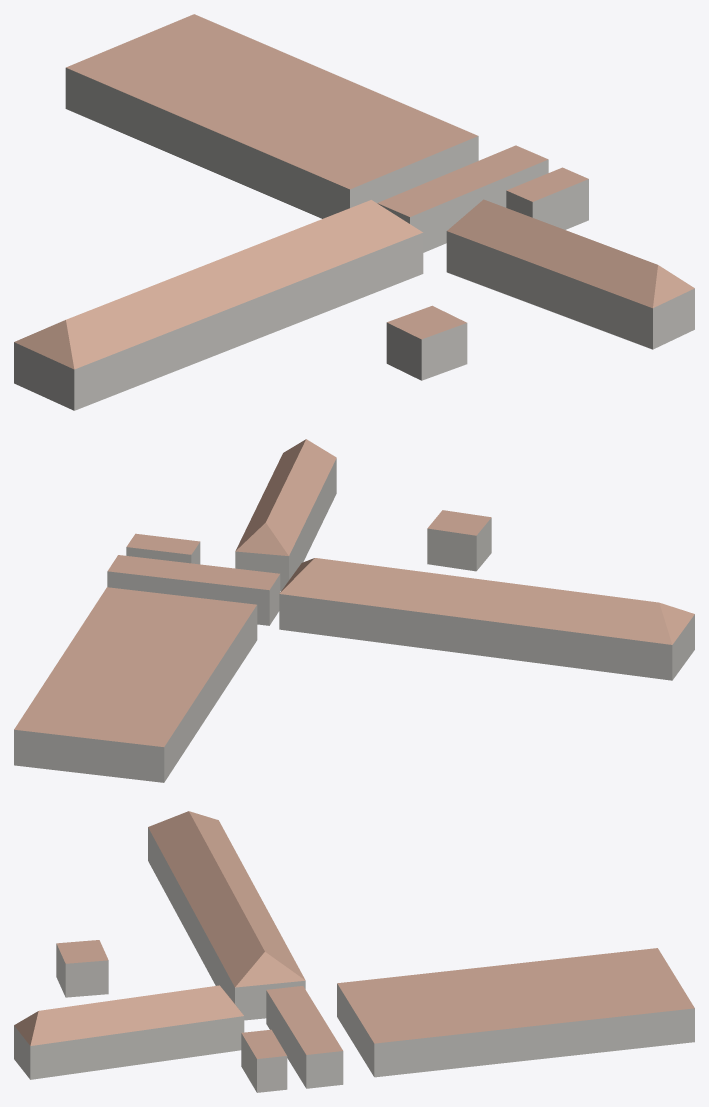
File: gridID_46.dae
The picture shows the model from 3 angles, top to bottom: view 1: azimuth 30°, elevation 25°; view 2: azimuth 150°, elevation 25°; view 3: azimuth 270°, elevation 25°; orthographic projection. The views are drawn at different scales.
Visible parts, largest first — view 1: model_gridID_46_w116940015_001, model_gridID_46_w379069945, model_gridID_46_w379069956, model_gridID_46_w116940015, model_gridID_46_w379069950, model_gridID_46_w116940036_001; view 2: model_gridID_46_w116940015_001, model_gridID_46_w379069945, model_gridID_46_w379069956, model_gridID_46_w116940015, model_gridID_46_w379069950, model_gridID_46_w116940036_001; view 3: model_gridID_46_w116940015_001, model_gridID_46_w379069945, model_gridID_46_w379069956, model_gridID_46_w116940015, model_gridID_46_w379069950, model_gridID_46_w116940036_001.
Part boxes in pixels (x1,y1,x2,y2): model_gridID_46_w116940015_001: (65,14,478,218); model_gridID_46_w379069945: (14,200,423,410); model_gridID_46_w379069956: (446,199,694,349); model_gridID_46_w116940015: (377,145,548,252); model_gridID_46_w379069950: (386,305,467,380); model_gridID_46_w116940036_001: (506,167,588,229); model_gridID_46_w116940015_001: (14,587,257,782); model_gridID_46_w379069945: (279,558,694,680); model_gridID_46_w379069956: (235,439,336,590); model_gridID_46_w116940015: (107,555,280,625); model_gridID_46_w379069950: (427,510,491,571); model_gridID_46_w116940036_001: (126,533,200,564); model_gridID_46_w116940015_001: (337,948,694,1077); model_gridID_46_w379069945: (148,811,305,1020); model_gridID_46_w379069956: (14,985,244,1079); model_gridID_46_w116940015: (266,986,343,1088); model_gridID_46_w379069950: (56,940,108,997); model_gridID_46_w116940036_001: (241,1029,287,1092).
Size of the model in its own units: 114 by 137 by 12.5.
